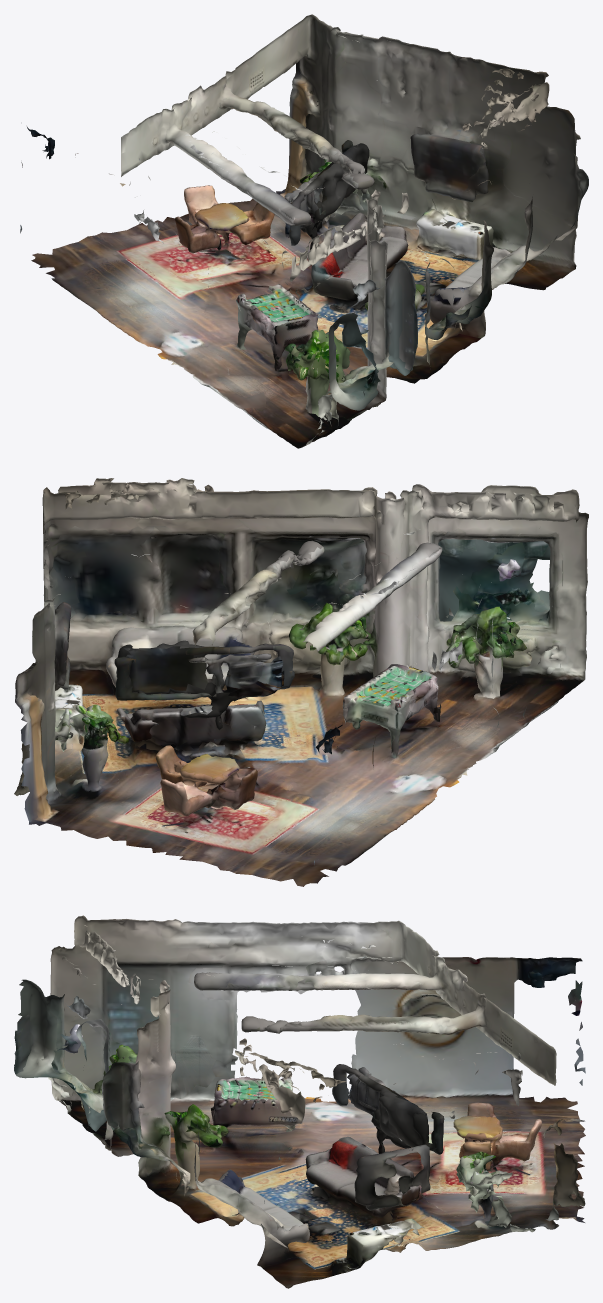
Rendered from gofore_tvroom.glb.
3 renders of one model, top to bottom at view 1: azimuth 30°, elevation 25°; view 2: azimuth 150°, elevation 25°; view 3: azimuth 270°, elevation 25°, orthographic. The views are drawn at different scales.
Visible parts, largest first — view 1: gofore_tvroom.001; view 2: gofore_tvroom.001; view 3: gofore_tvroom.001.
Part boxes in pixels (x1,y1,x2,y2): gofore_tvroom.001: (20, 14, 588, 448); gofore_tvroom.001: (14, 478, 588, 886); gofore_tvroom.001: (14, 915, 585, 1288).
Bounding box in the file's own units: 7.5 × 3.51 × 9.24.
1 material, 1 textured.
